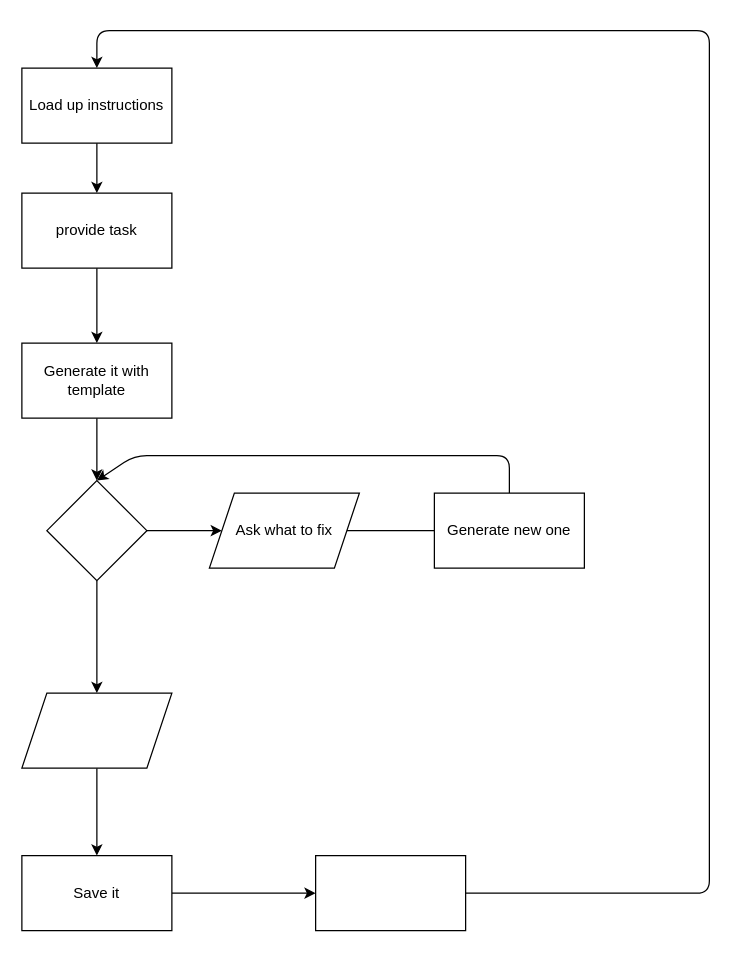
This 741x953 diagram has some shape labels left out. The centre of each missing label's shape, as x and y in pixels:
Ask if it`s good: the point at 96,530
Ask what`s number of the task: the point at 96,730
Ignore all previous prompts: the point at 390,892
